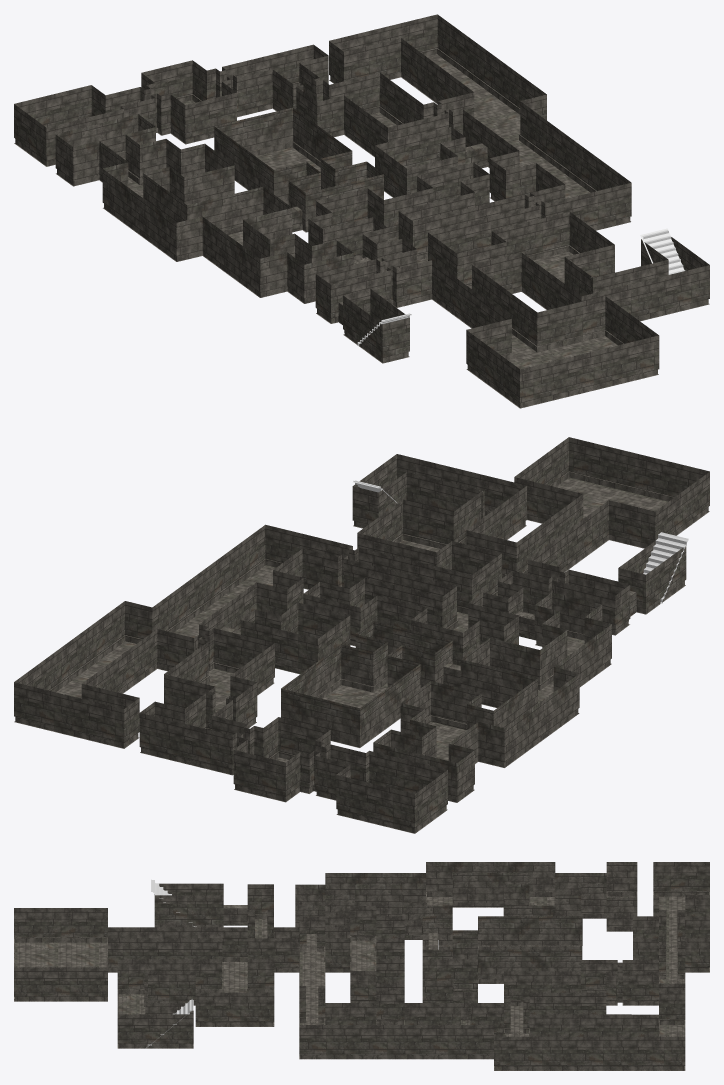
Rendered from 002_zennkiseisaku_meiro2_01_04.fbx.
3 views of the same model, one above another, from view 1: azimuth 30°, elevation 25°; view 2: azimuth 150°, elevation 25°; view 3: azimuth 270°, elevation 25° (orthographic). The views are drawn at different scales.
Parts seen in each view (by area): view 1: Bip001, オブジェクト; view 2: Bip001, オブジェクト, Line006; view 3: Bip001, オブジェクト.
Boxes of the visible parts, x1=… form: Bip001: x1=14, y1=14, x2=709, y2=408; オブジェクト: x1=15, y1=54, x2=709, y2=408; Bip001: x1=14, y1=437, x2=709, y2=833; オブジェクト: x1=56, y1=477, x2=696, y2=832; Line006: x1=643, y1=533, x2=688, y2=603; Bip001: x1=14, y1=862, x2=709, y2=1070; オブジェクト: x1=15, y1=896, x2=685, y2=1070.
Size of the model in its own units: 857 by 88.64 by 1445.
